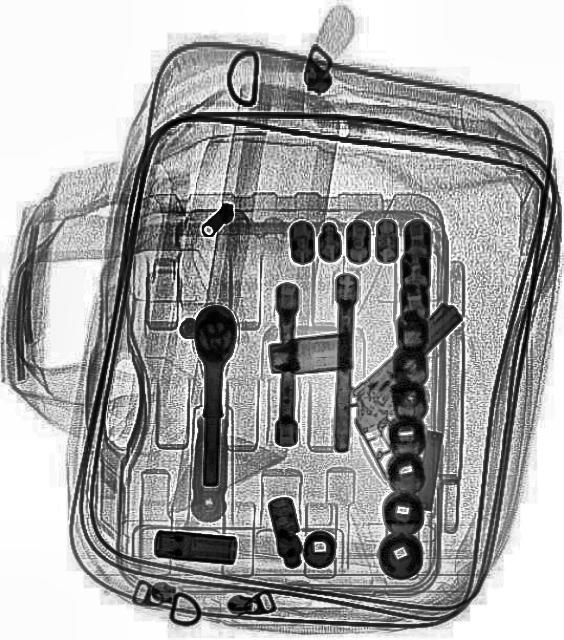Gun: (327, 298, 509, 480)
